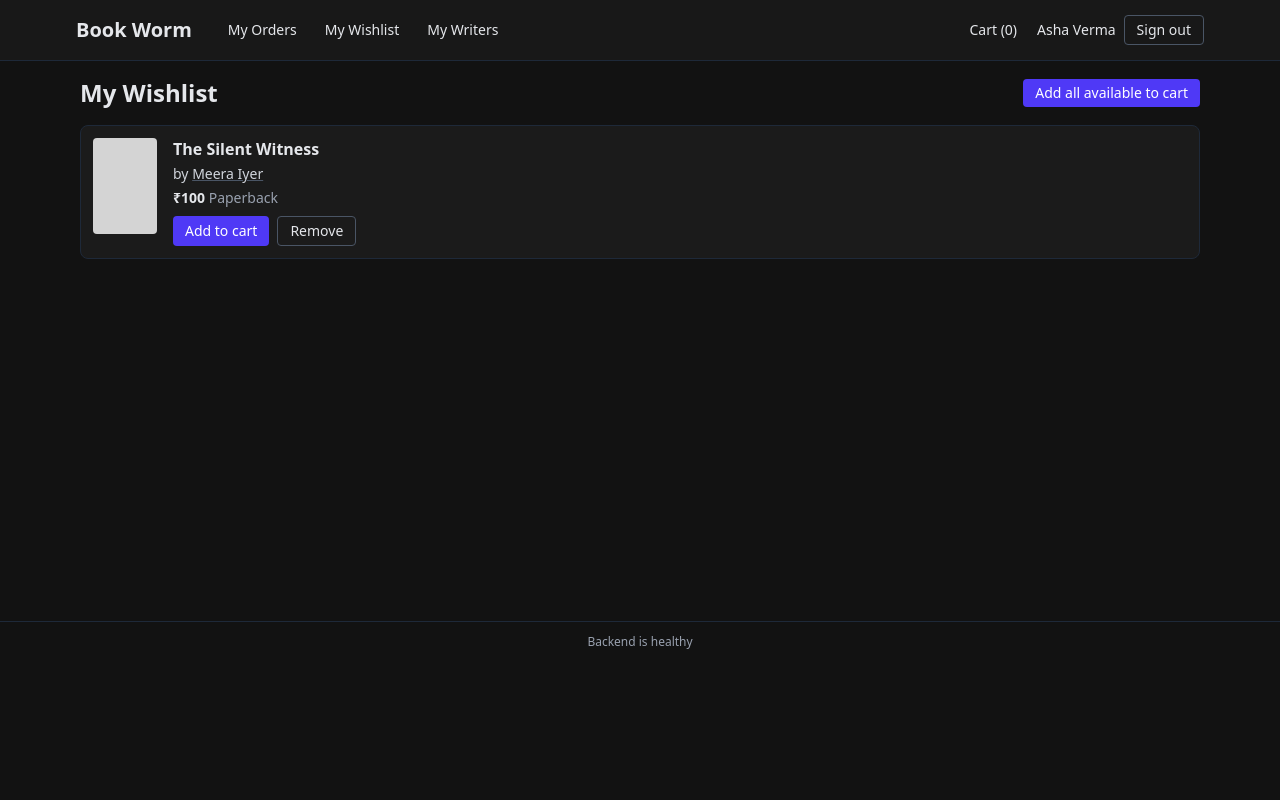
My Wishlist page › removes a book
This screenshot has width=1280, height=800.
Click the button with aria-label "Remove The Silent Witness from wishlist": click(317, 231) [277,216,356,246]
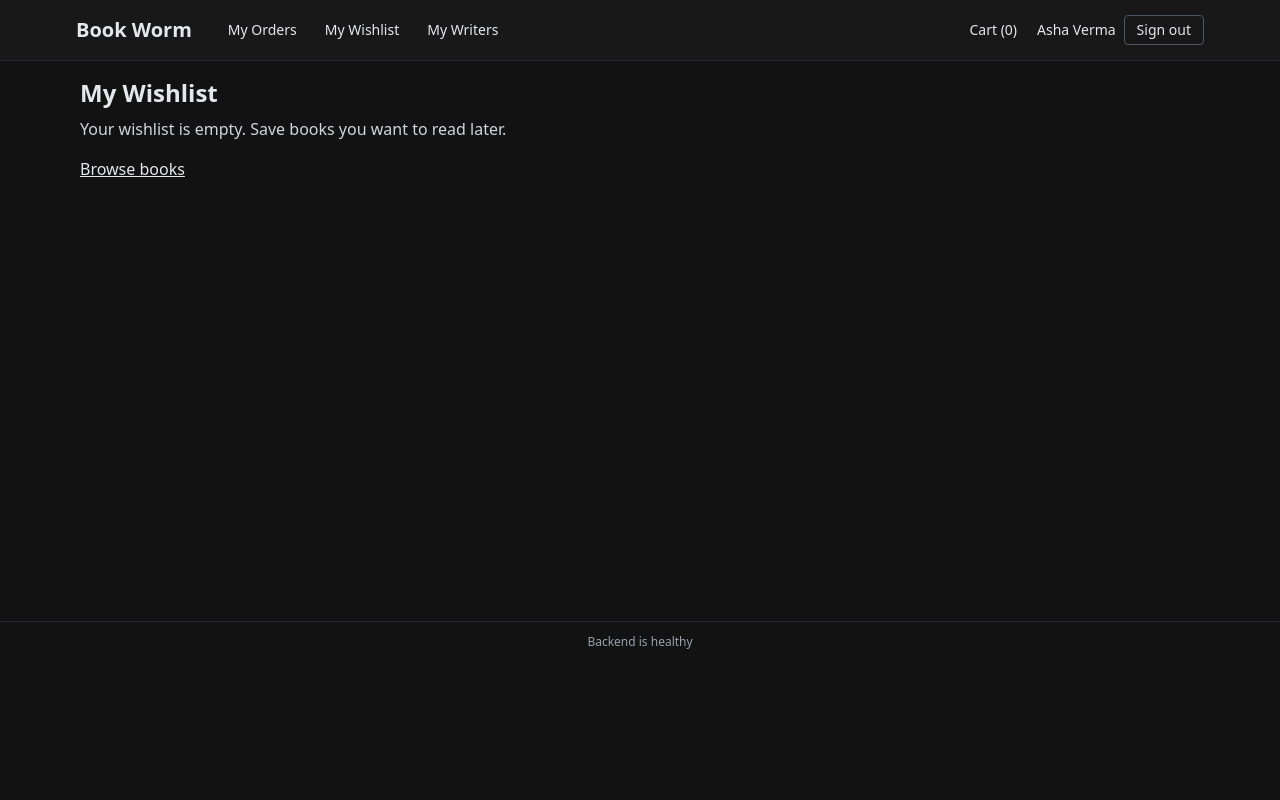
Expected: the text "Your wishlist is empty. Save books you want to read later." is shown, [80,118,506,140]
